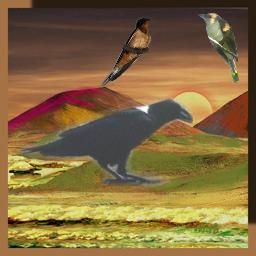Crow: (19, 97, 193, 186)
Cuckoo: (196, 12, 241, 85)
Swallow: (99, 16, 153, 87)
